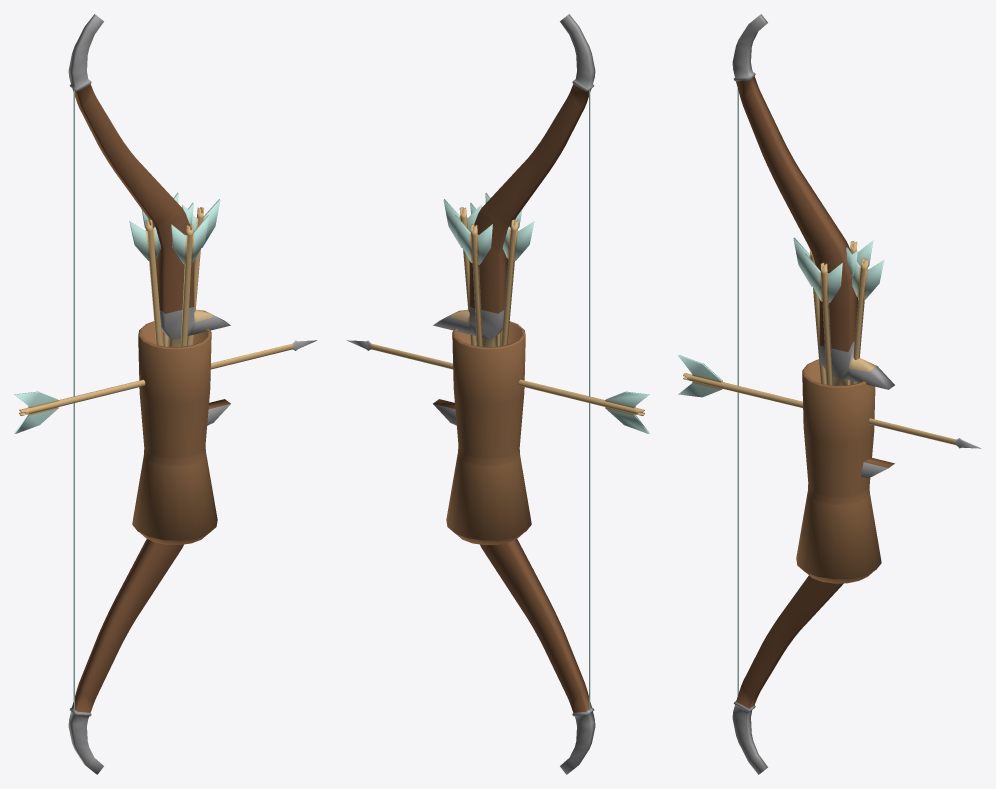
Rendered from Bow Model test.fbx.
3 renders of one model, left to right at view 1: azimuth 30°, elevation 25°; view 2: azimuth 150°, elevation 25°; view 3: azimuth 330°, elevation 25°, orthographic.
Visible parts, largest first — view 1: Cylinder.002, Cube, Cylinder; view 2: Cylinder.002, Cube, Cylinder; view 3: Cylinder.002, Cube, Cylinder.
Boxes of the visible parts, x1,y1,x2,y2 form: Cylinder.002: (129,192,220,544); Cube: (68,14,230,774); Cylinder: (14,340,317,433); Cylinder.002: (443,192,534,544); Cube: (433,14,595,774); Cylinder: (346,340,649,433); Cylinder.002: (793,237,884,583); Cube: (732,14,894,774); Cylinder: (678,355,981,448).
Size of the model in its own units: 2108 by 5042 by 519.
